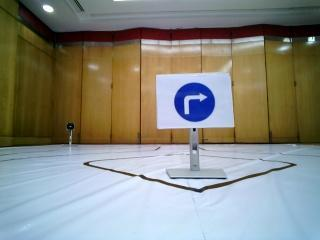right: (159, 73, 228, 121)
